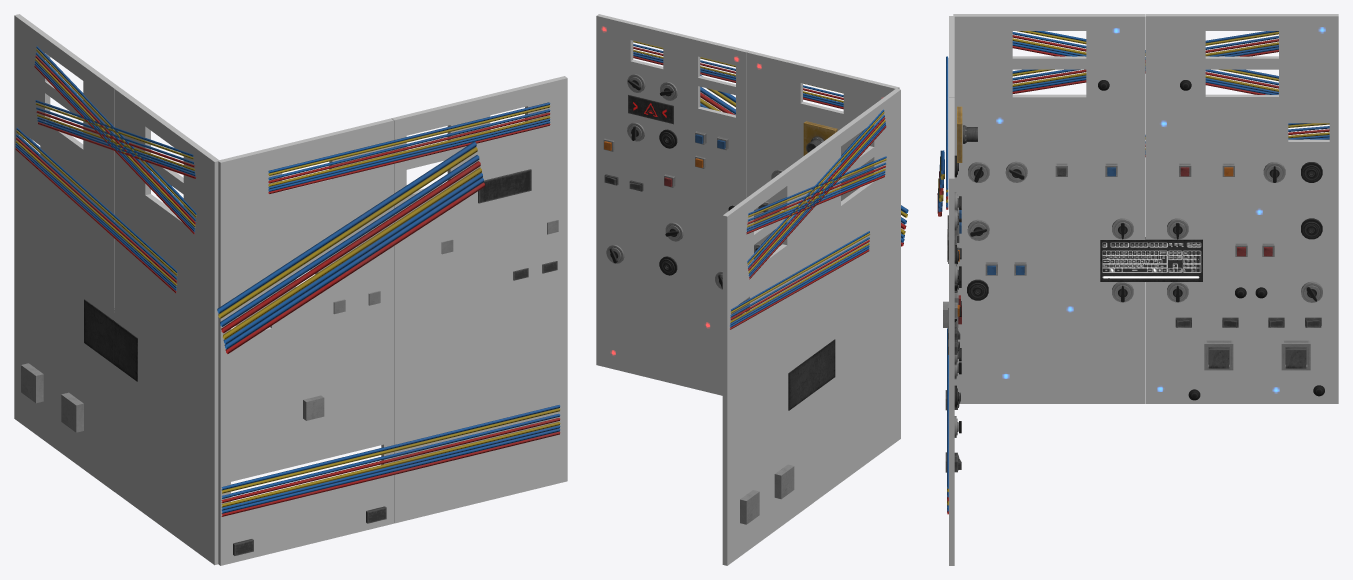
The model's file is SM_Hand_Made_PC_01.fbx.
3 renders of one model, left to right at view 1: azimuth 30°, elevation 25°; view 2: azimuth 150°, elevation 25°; view 3: azimuth 270°, elevation 25°, orthographic. The views are drawn at different scales.
Visible parts, largest first — view 1: SM_Hand_Made_PC_01_LOD0; view 2: SM_Hand_Made_PC_01_LOD0; view 3: SM_Hand_Made_PC_01_LOD0.
Boxes of the visible parts, x1,y1,x2,y2 form: SM_Hand_Made_PC_01_LOD0: (14, 14, 567, 565); SM_Hand_Made_PC_01_LOD0: (596, 14, 908, 565); SM_Hand_Made_PC_01_LOD0: (937, 14, 1338, 565).
Size of the model in its own units: 266 by 268 by 286.
